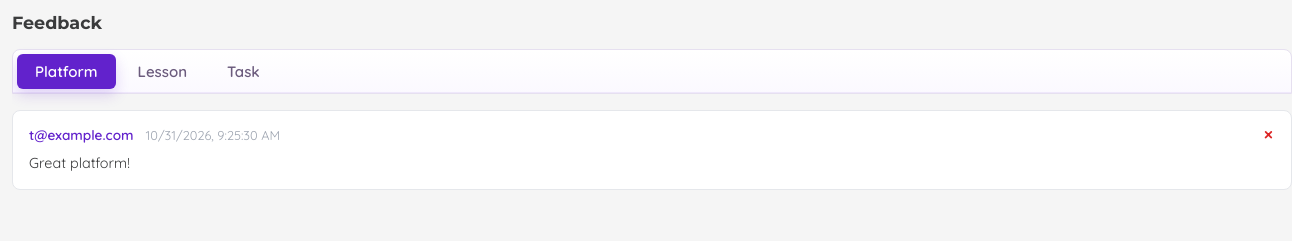
FeedbackPanel — destructive delete confirmation › shows an error when archiving fails
Click the button titled "Archive feedback".
click(1268, 135)  # box [1262, 125, 1275, 144]
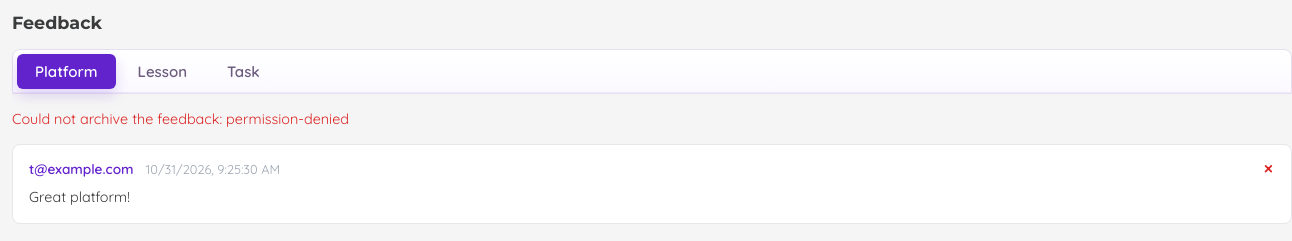
Expected: the text "Could not archive the feedback: permission-denied" is shown, [12, 110, 349, 128]
